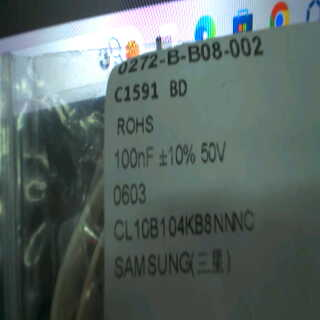100nF: (112, 143, 156, 172)
